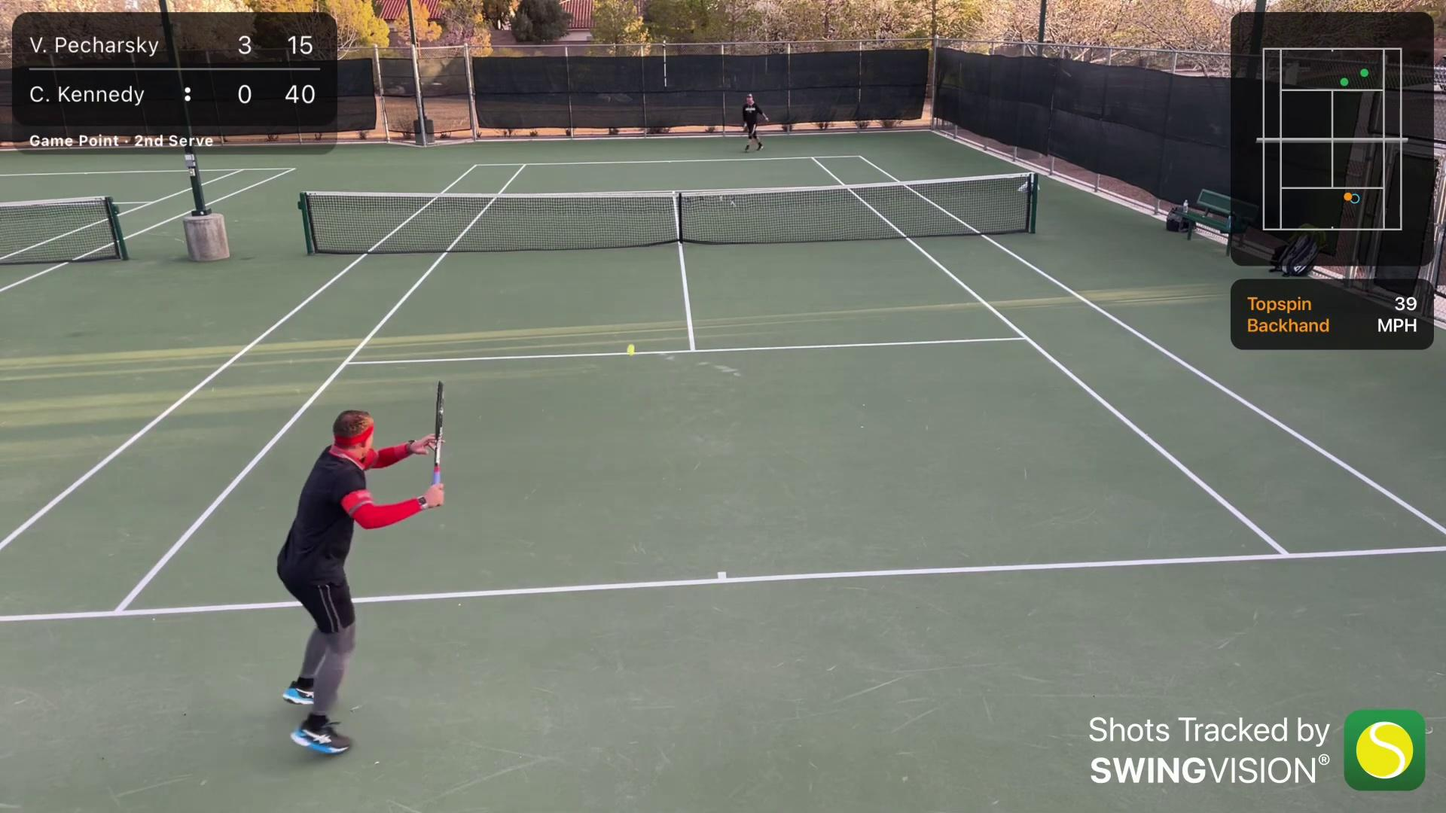ball: (626, 341, 636, 358)
